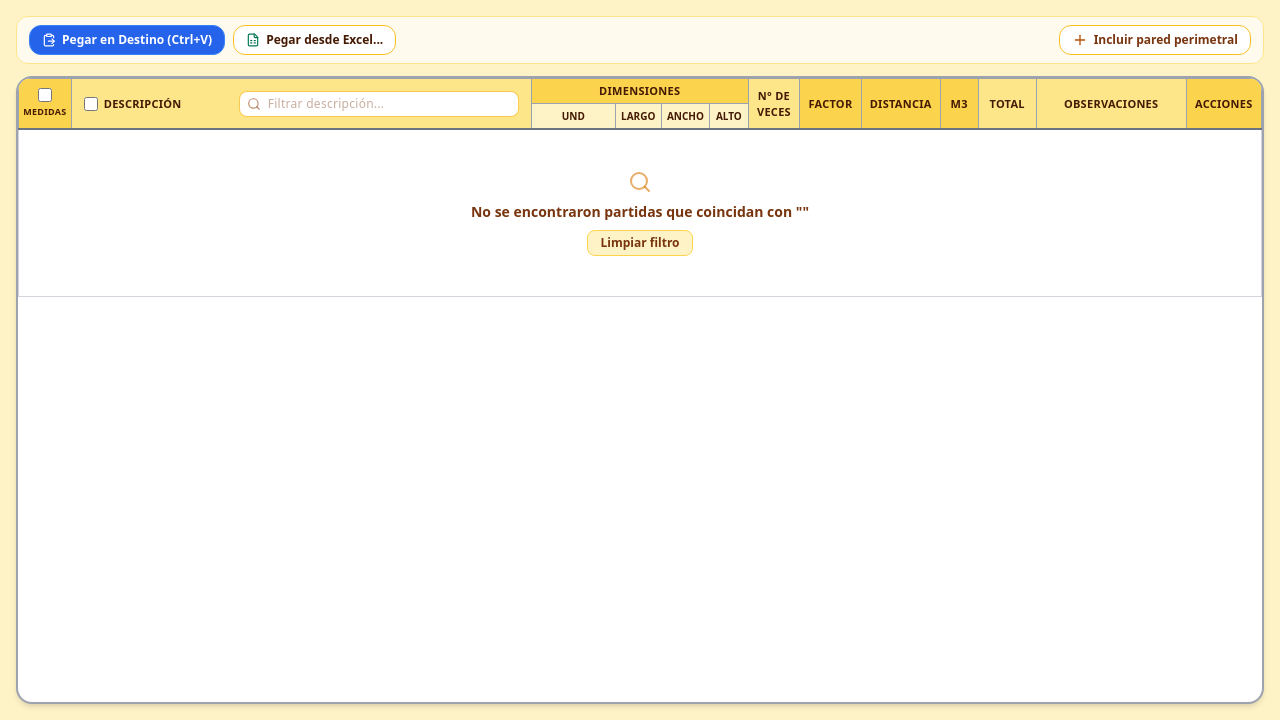
Test: componentes de la planilla › abre la macro actividad de pared perimetral
Click the button "Incluir pared perimetral". click: (1155, 40)
box: top-left (1059, 25), bottom-right (1251, 55)
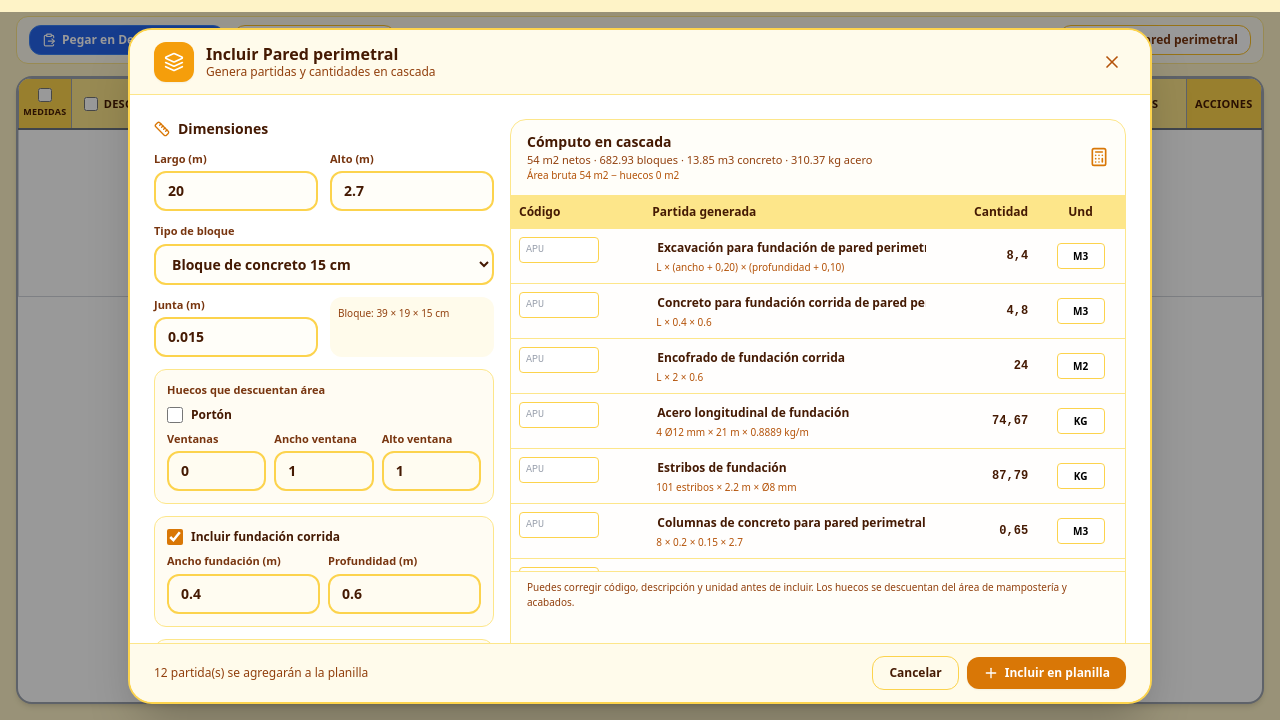
Expected: the heading "Cómputo en cascada" is shown, top-left (527, 132), bottom-right (672, 151)
Expected: the button "Incluir en planilla" is shown, top-left (967, 657), bottom-right (1126, 689)
